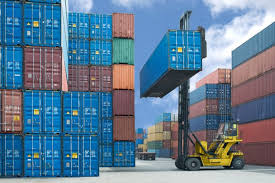container_door: (24, 1, 62, 46), (24, 47, 60, 91), (23, 133, 59, 177), (23, 91, 61, 132), (63, 92, 100, 133), (61, 134, 98, 175), (168, 28, 202, 69), (1, 134, 24, 177), (1, 91, 24, 134), (1, 46, 24, 89), (1, 1, 23, 45), (66, 38, 90, 66), (66, 12, 90, 38), (89, 39, 112, 65), (68, 65, 90, 91), (90, 13, 112, 38), (90, 65, 112, 90), (115, 140, 134, 167)
container_no_door: (112, 38, 135, 64), (113, 63, 135, 90), (111, 13, 134, 38), (113, 89, 134, 116), (113, 117, 135, 141)
